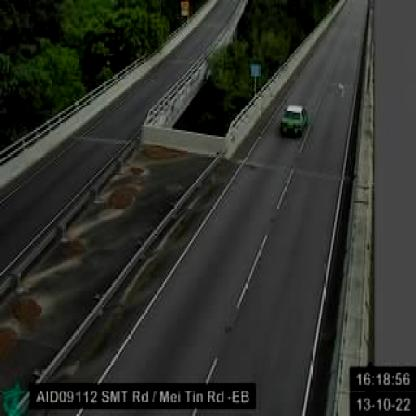Car: (279, 101, 309, 137)
